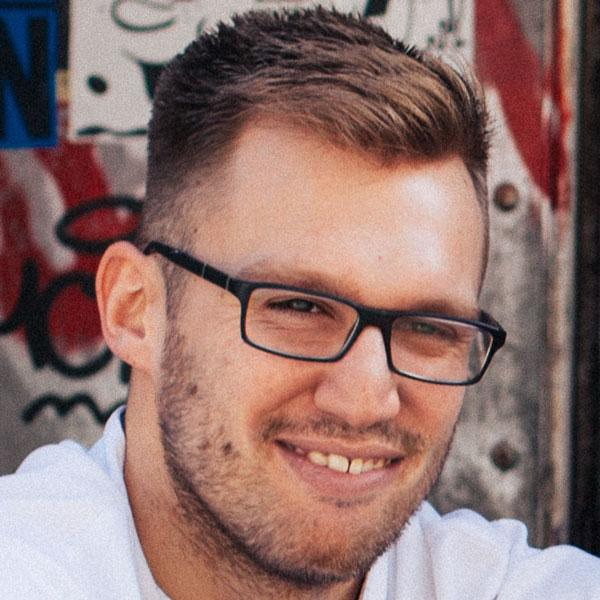Eyes: (258, 282, 341, 332), (388, 306, 465, 355)
